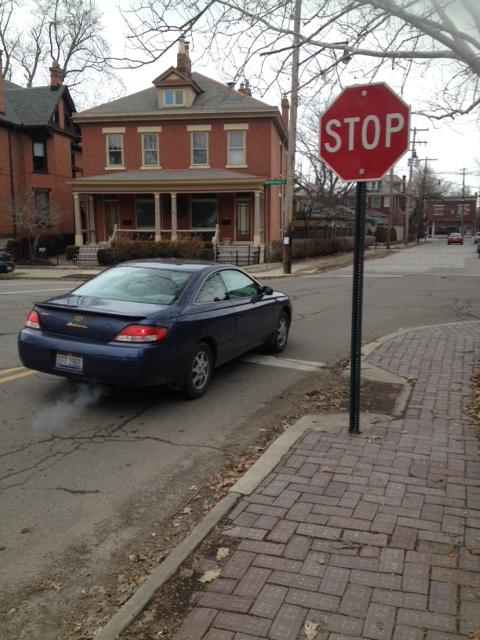Pole: (347, 181, 371, 438)
Sign: (320, 84, 410, 180)
